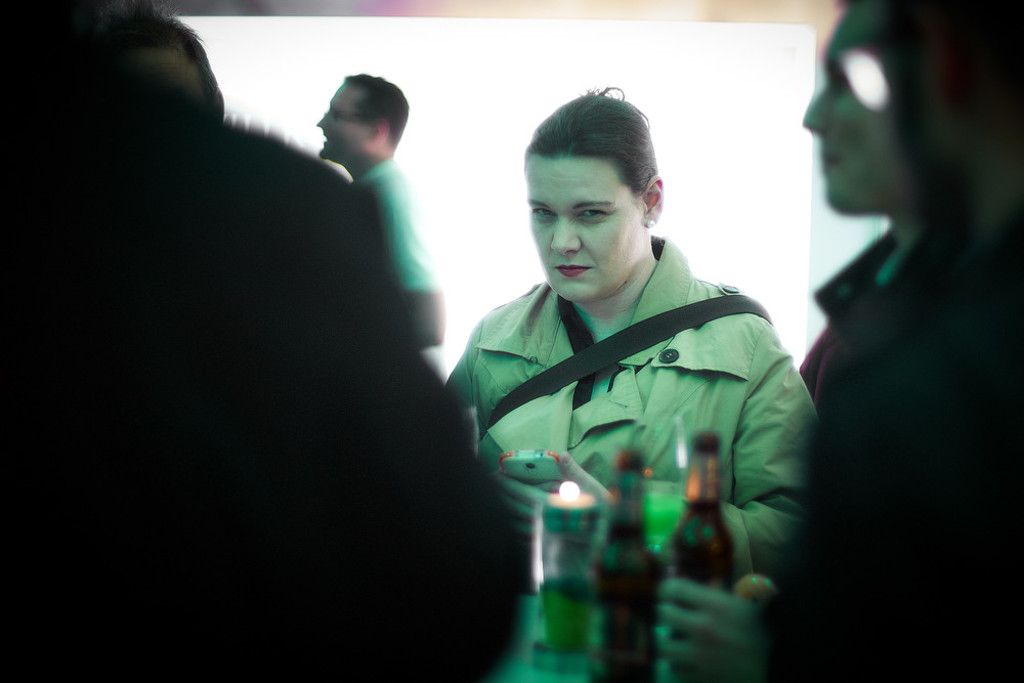Human_hand: (496, 450, 615, 548), (656, 580, 767, 682)
